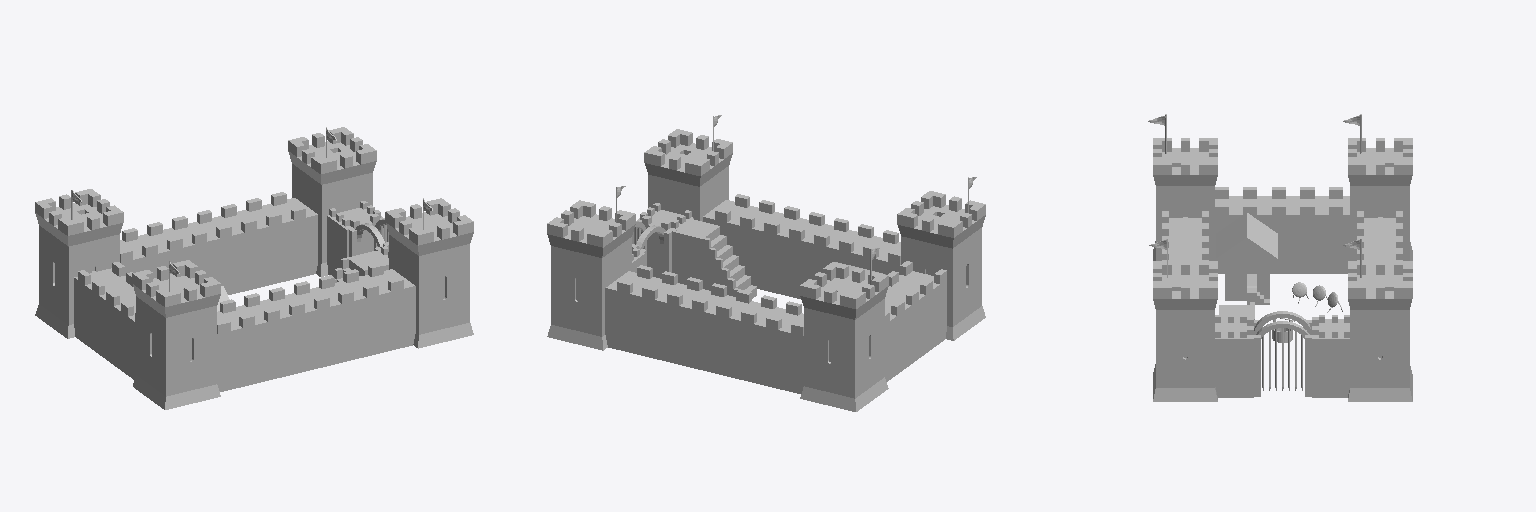
Rendered from castle.obj.
3 renders of one model, left to right at view 1: azimuth 30°, elevation 25°; view 2: azimuth 150°, elevation 25°; view 3: azimuth 270°, elevation 25°, orthographic.
Parts seen in each view (by area): view 1: Wall2, Towers2, Towers1, Wall1, Wall_3, Stairs; view 2: Wall2, Towers2, Towers1, Wall1, Stairs, Wall_3, Torbogen; view 3: Towers1, Towers2, Wall1, Wall_3, Wall2, Burghhaus, Torbogen, Tor.
Boxes of the visible parts, <box> form: Wall2: <box>120,192,415,391</box>; Towers2: <box>35,189,220,409</box>; Towers1: <box>288,127,473,348</box>; Wall1: <box>74,262,135,379</box>; Wall_3: <box>327,201,388,276</box>; Stairs: <box>334,251,388,282</box>; Wall2: <box>605,194,900,393</box>; Towers2: <box>800,191,985,411</box>; Towers1: <box>547,129,732,350</box>; Wall1: <box>885,261,946,381</box>; Stairs: <box>674,219,756,298</box>; Wall_3: <box>632,203,693,277</box>; Torbogen: <box>635,221,665,278</box>; Towers1: <box>1153,261,1412,401</box>; Towers2: <box>1153,138,1412,260</box>; Wall1: <box>1215,187,1349,273</box>; Wall_3: <box>1215,315,1349,397</box>; Wall2: <box>1162,211,1402,270</box>; Burghhaus: <box>1216,213,1277,304</box>; Torbogen: <box>1254,311,1311,338</box>; Tor: <box>1262,328,1302,390</box>.
Bounding box in the file's own units: 11 × 4.87 × 8.17.